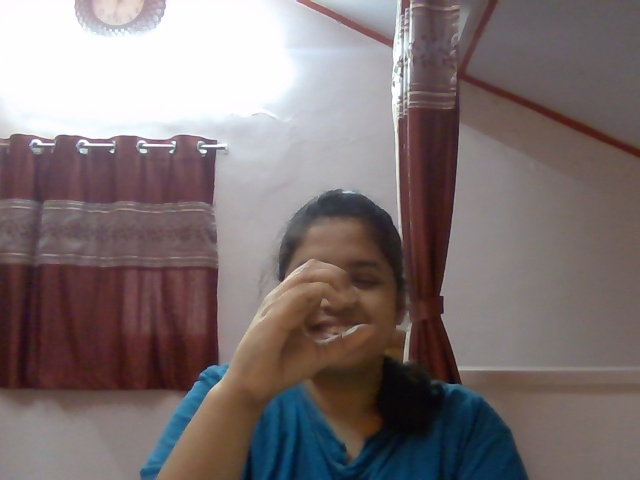c: (243, 256, 384, 396)
